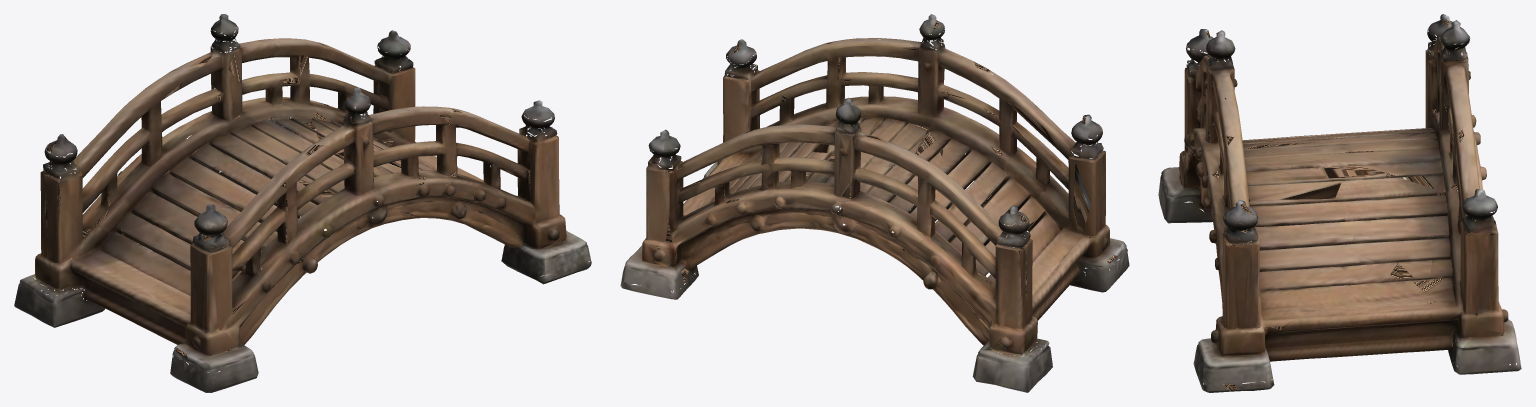
File: bridge.glb
3 renders of one model, left to right at view 1: azimuth 30°, elevation 25°; view 2: azimuth 150°, elevation 25°; view 3: azimuth 270°, elevation 25°, orthographic. The views are drawn at different scales.
Visible parts, largest first — view 1: WB_Wooden_Bridge_Refined; view 2: WB_Wooden_Bridge_Refined; view 3: WB_Wooden_Bridge_Refined.
Boxes of the visible parts, left/top/right/bottom form: WB_Wooden_Bridge_Refined: left=14, top=14, right=591, bottom=392; WB_Wooden_Bridge_Refined: left=620, top=14, right=1129, bottom=392; WB_Wooden_Bridge_Refined: left=1158, top=14, right=1521, bottom=392.
Bounding box in the file's own units: 3.2 × 1.72 × 2.1.
Materials: 3 (3 with a texture image).
